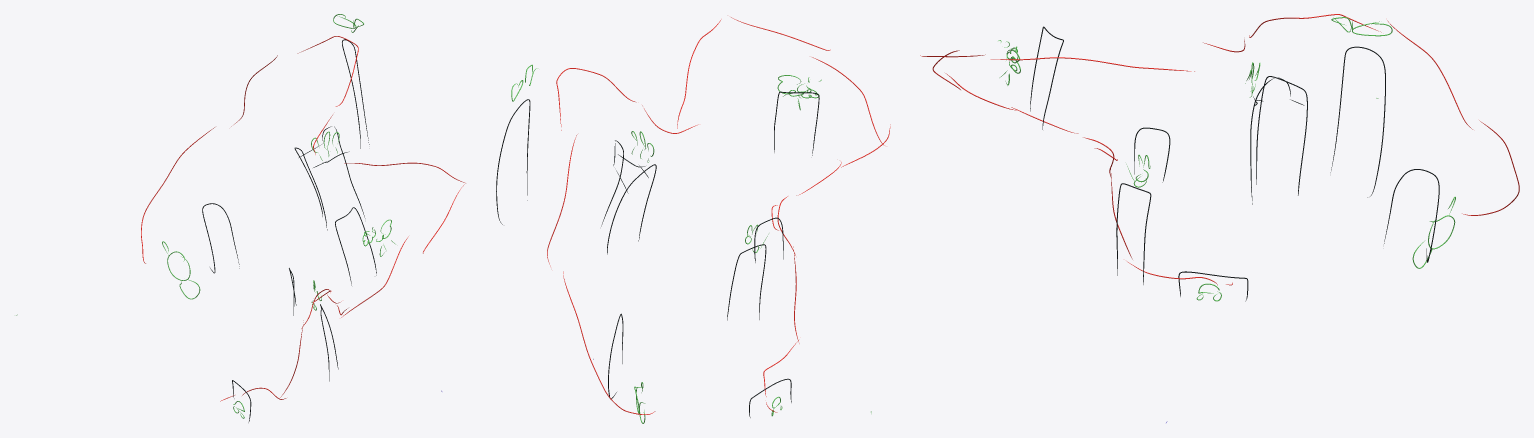
The picture shows the model from 3 angles, left to right: view 1: azimuth 30°, elevation 25°; view 2: azimuth 150°, elevation 25°; view 3: azimuth 270°, elevation 25°; orthographic projection. The views are drawn at different scales.
Bounding box in the file's own units: 1221 × 1095 × 1493.
